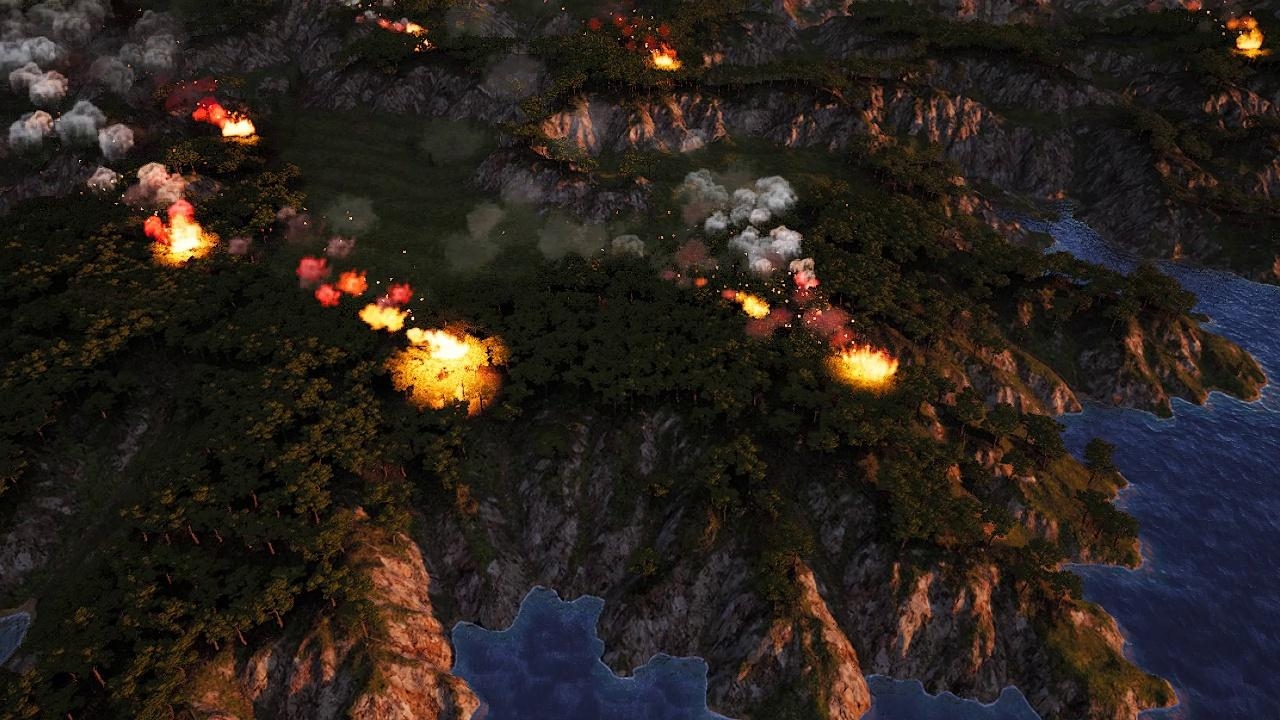fire: (297, 255, 406, 333), (397, 329, 492, 410), (148, 206, 211, 260), (191, 98, 253, 140), (838, 348, 896, 385), (727, 283, 770, 321), (1231, 29, 1268, 61), (384, 17, 426, 39), (654, 50, 676, 69)
smoke: (670, 170, 863, 346), (0, 0, 192, 150), (86, 160, 201, 210)
